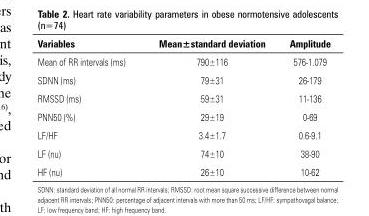table: (36, 36, 329, 177)
table column: (141, 36, 276, 177), (36, 36, 141, 177), (276, 36, 329, 177)
table column header: (36, 36, 329, 52)
table row: (36, 88, 329, 107), (36, 143, 329, 162), (36, 52, 329, 70), (36, 70, 329, 88), (36, 107, 329, 125), (36, 125, 329, 143), (36, 36, 329, 52), (36, 162, 329, 177)
